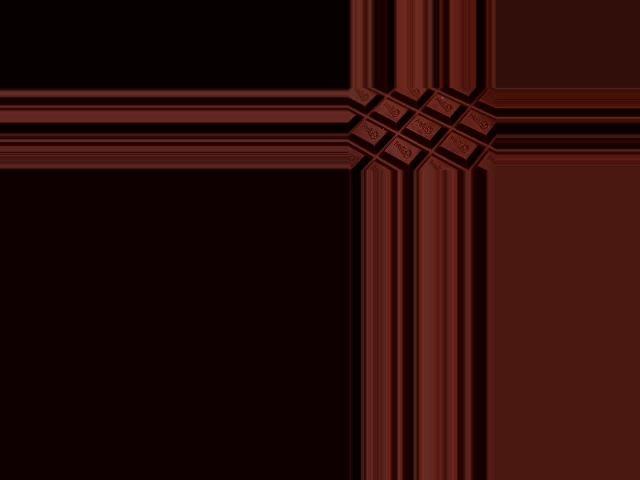chocolate: (352, 90, 495, 171)
